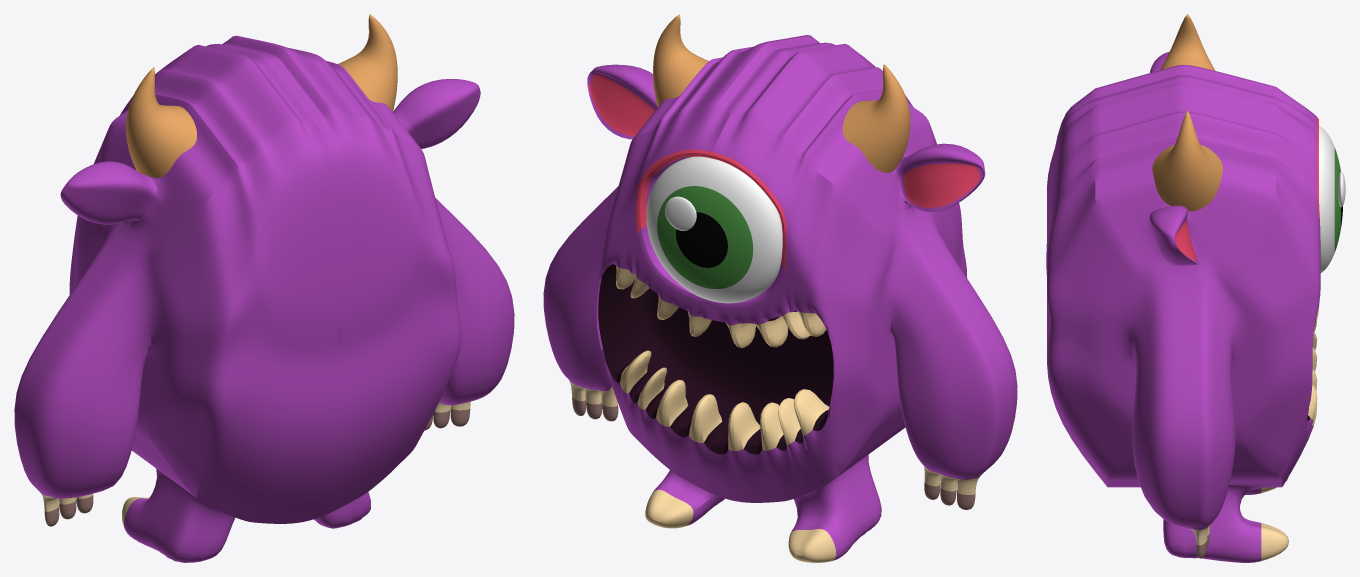
File: Purple Cyclops.fbx
3 views of the same model, side by side, from view 1: azimuth 30°, elevation 25°; view 2: azimuth 150°, elevation 25°; view 3: azimuth 270°, elevation 25° (orthographic). The views are drawn at different scales.
Visible parts, largest first — view 1: Cube; view 2: Cube; view 3: Cube.
Part boxes in pixels (box(x1,y1,x2,y2)): Cube: box(14, 14, 514, 562); Cube: box(543, 14, 1017, 562); Cube: box(1046, 14, 1345, 562).
Size of the model in its own units: 383 by 385 by 227.
